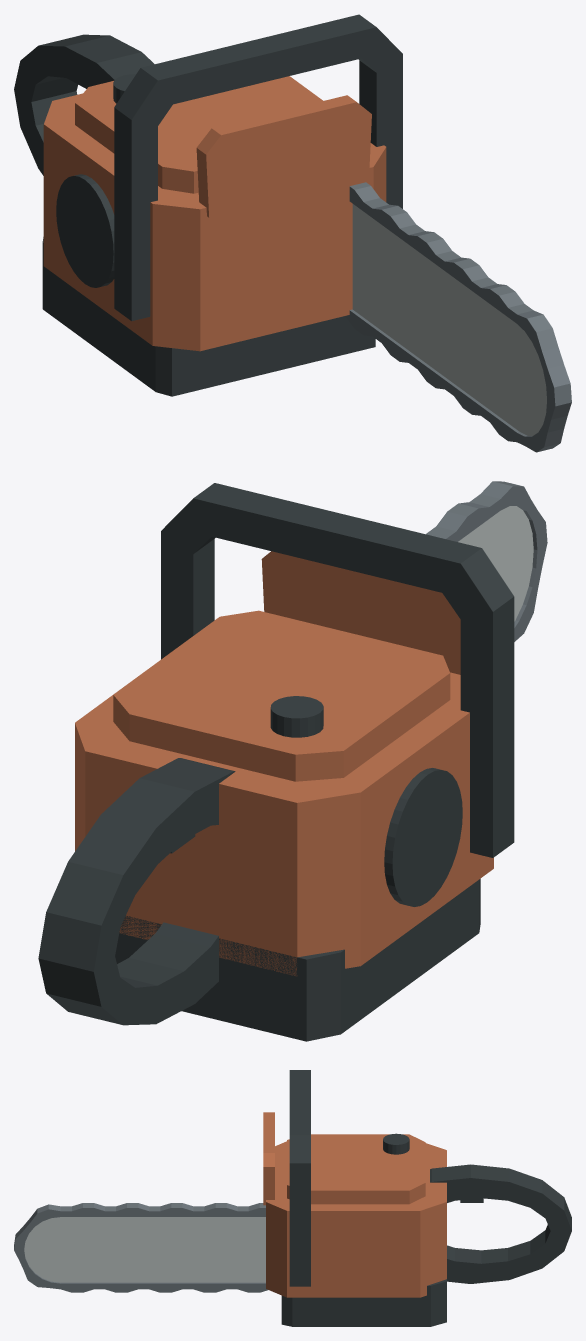
3 views of the same model, one above another, from view 1: azimuth 30°, elevation 25°; view 2: azimuth 150°, elevation 25°; view 3: azimuth 270°, elevation 25° (orthographic). The views are drawn at different scales.
Visible parts, largest first — view 1: WholeChamferedPowerCase, WholeFrontWrappingGrip, WholeRoundedNoseGuidePlate, WholeFixedForwardHandShield, WholeGroundedLowerCase, WholeContinuousBluntToothChainBand, WholeUpperInsetCover, WholeThroughOpenRearGrip, WholeBlankLeftRecoilCover; view 2: WholeChamferedPowerCase, WholeUpperInsetCover, WholeFrontWrappingGrip, WholeThroughOpenRearGrip, WholeGroundedLowerCase, WholeFixedForwardHandShield, WholeBlankLeftRecoilCover, WholeContinuousBluntToothChainBand, WholeRoundedNoseGuidePlate, WholePlainUpperCap; view 3: WholeChamferedPowerCase, WholeRoundedNoseGuidePlate, WholeThroughOpenRearGrip, WholeUpperInsetCover, WholeContinuousBluntToothChainBand, WholeGroundedLowerCase, WholeFrontWrappingGrip, WholeFixedForwardHandShield, WholePlainUpperCap.
Boxes of the visible parts, x1,y1,x2,y2 form: WholeChamferedPowerCase: (43,93,386,351); WholeFrontWrappingGrip: (114,14,402,321); WholeRoundedNoseGuidePlate: (352,204,546,435); WholeFixedForwardHandShield: (196,95,371,217); WholeGroundedLowerCase: (42,237,375,396); WholeContinuousBluntToothChainBand: (345,182,571,452); WholeUpperInsetCover: (75,76,323,193); WholeThroughOpenRearGrip: (14,34,154,175); WholeBlankLeftRecoilCover: (56,174,114,287); WholeChamferedPowerCase: (75,672,493,976); WholeUpperInsetCover: (113,610,450,781); WholeFrontWrappingGrip: (161,483,514,857); WholeThroughOpenRearGrip: (38,758,235,1025); WholeGroundedLowerCase: (115,878,480,1041); WholeFixedForwardHandShield: (261,551,460,674); WholeBlankLeftRecoilCover: (384,768,462,906); WholeContinuousBluntToothChainBand: (426,481,547,641); WholeRoundedNoseGuidePlate: (458,506,533,621); WholePlainUpperCap: (270,696,323,737); WholeChamferedPowerCase: (266,1141,446,1297); WholeRoundedNoseGuidePlate: (24,1217,265,1282); WholeThroughOpenRearGrip: (430,1164,571,1283); WholeUpperInsetCover: (287,1134,425,1204); WholeContinuousBluntToothChainBand: (14,1203,267,1292); WholeGroundedLowerCase: (281,1279,446,1326); WholeFrontWrappingGrip: (289,1070,310,1286); WholeFixedForwardHandShield: (263,1112,274,1205); WholePlainUpperCap: (383,1133,409,1154).
Size of the model in its own units: 0.36 by 0.397 by 1.05.
